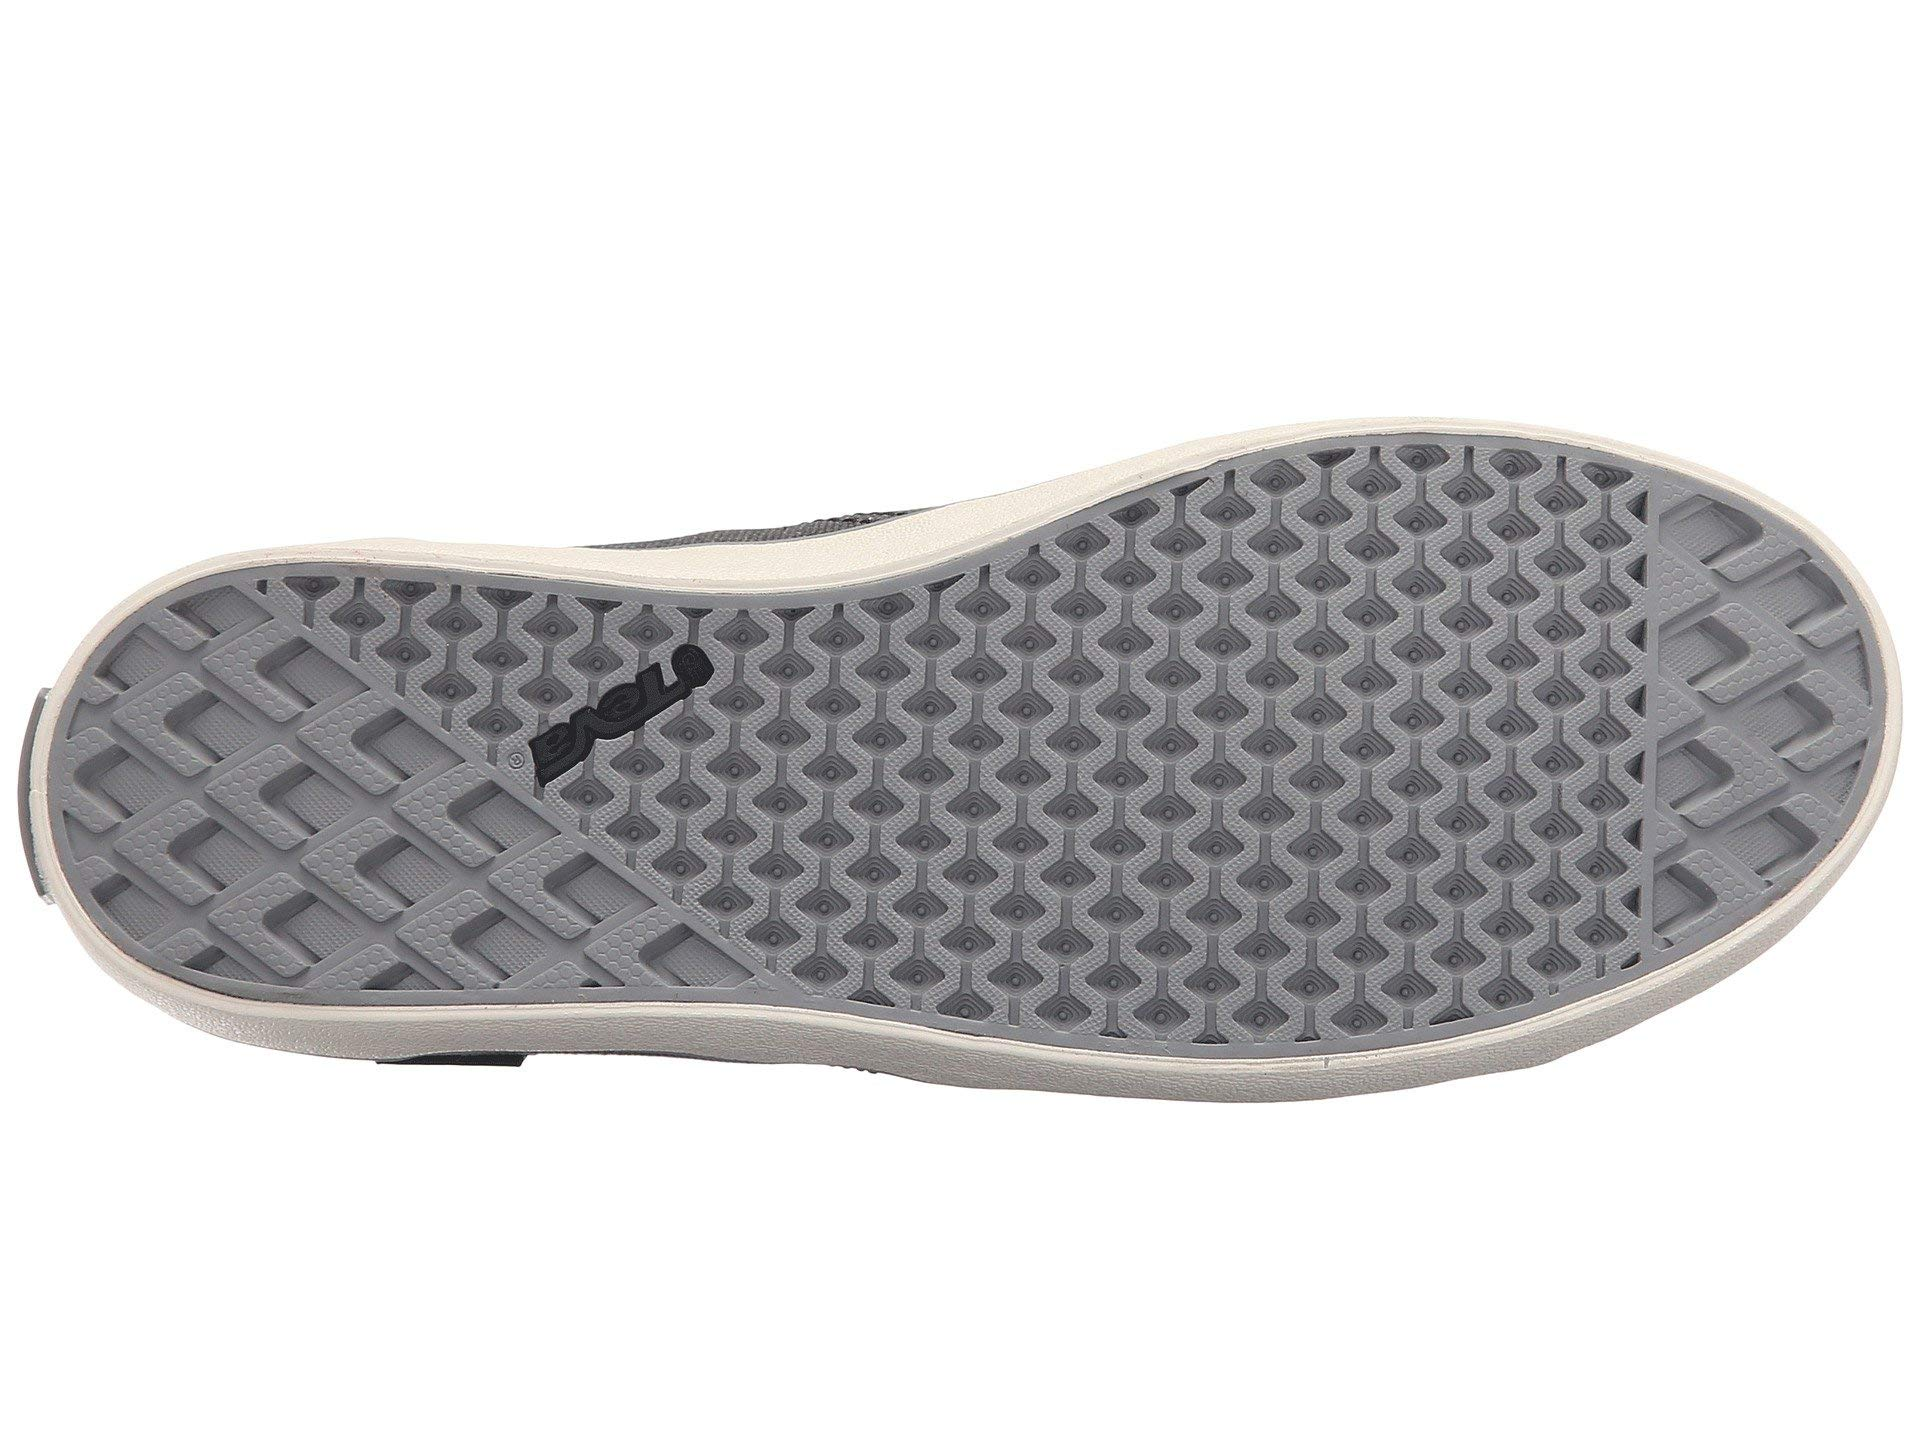chevron: (962, 545, 1465, 961), (121, 684, 513, 976), (1640, 538, 1841, 880)
quad: (962, 545, 1465, 961), (121, 684, 513, 976), (1640, 538, 1841, 880)
triangle: (1640, 538, 1841, 880)
